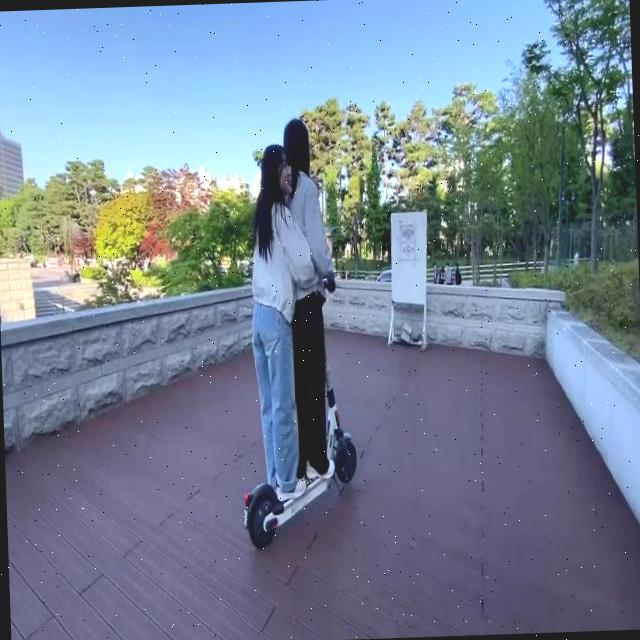bare_head: (250, 143, 304, 201), (273, 118, 323, 176)
human: (278, 115, 335, 482), (254, 141, 304, 487)
kickboard: (239, 424, 367, 562)
